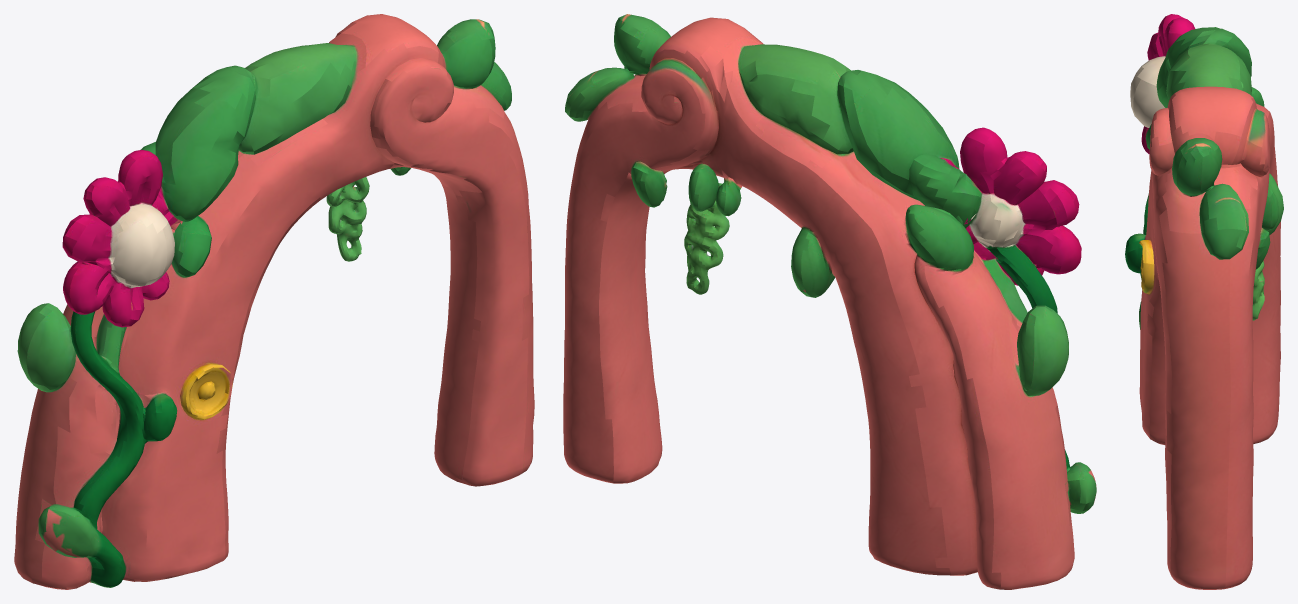
File: dream-arch.glb
3 views of the same model, side by side, from view 1: azimuth 30°, elevation 25°; view 2: azimuth 150°, elevation 25°; view 3: azimuth 270°, elevation 25° (orthographic). The views are drawn at different scales.
Visible parts, largest first — view 1: Mesh0; view 2: Mesh0; view 3: Mesh0.
Boxes of the visible parts, bbox=[...] form: Mesh0: bbox=[14, 14, 534, 589]; Mesh0: bbox=[563, 14, 1096, 589]; Mesh0: bbox=[1125, 14, 1283, 589].
Size of the model in its own units: 1.9 by 1.67 by 0.5476.
1 material, 1 textured.
